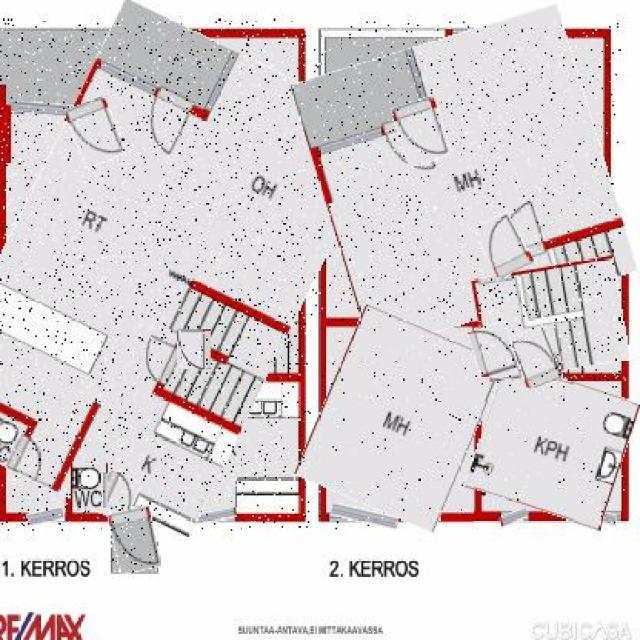door: (0, 18, 342, 531), (308, 21, 620, 334), (309, 316, 491, 522), (474, 372, 631, 523), (476, 262, 624, 378), (70, 464, 108, 510)
window: (69, 99, 122, 166), (395, 99, 448, 166), (480, 214, 529, 277), (111, 508, 158, 572), (512, 328, 558, 388), (471, 324, 515, 376), (100, 474, 140, 514), (177, 331, 211, 371)
zone: (334, 97, 397, 120), (438, 38, 458, 102), (331, 508, 398, 526), (454, 24, 508, 44), (166, 511, 237, 526), (134, 25, 184, 43), (12, 102, 74, 115), (27, 509, 64, 525), (498, 511, 528, 526), (125, 39, 132, 103), (592, 512, 617, 525)
